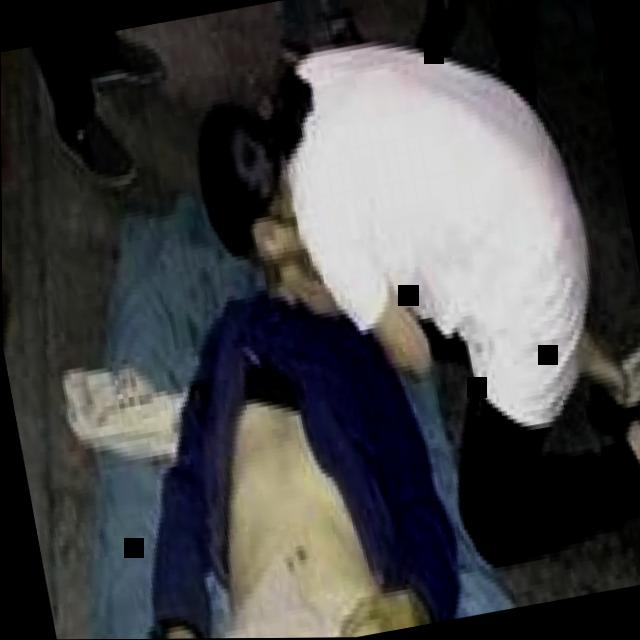Fall-Detected: (47, 173, 553, 640)
